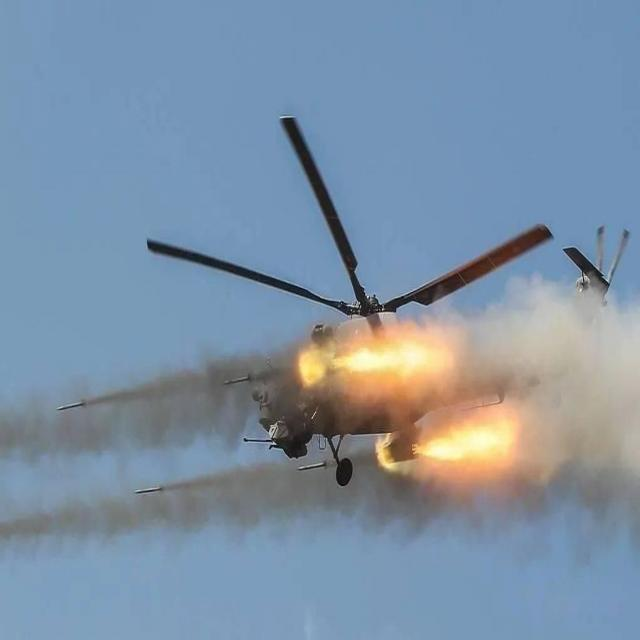MIL_HELO: (140, 97, 558, 498)
